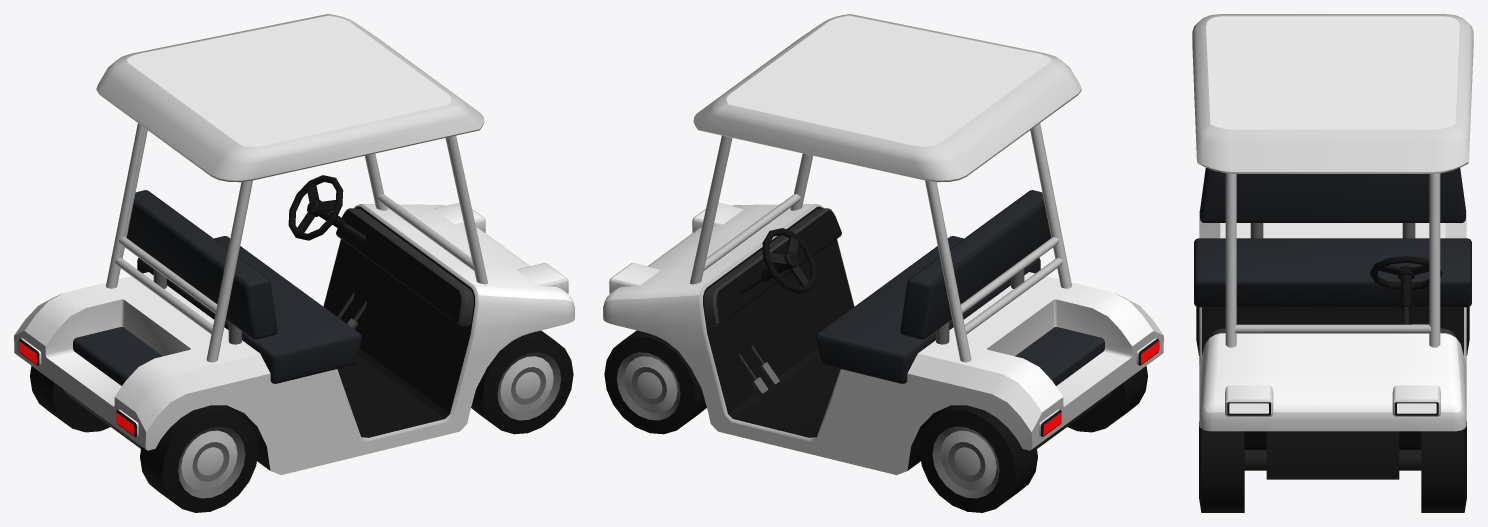
File: Bike_001.glb
3 views of the same model, side by side, from view 1: azimuth 30°, elevation 25°; view 2: azimuth 150°, elevation 25°; view 3: azimuth 270°, elevation 25° (orthographic).
Parts seen in each view (by area): view 1: Bike_001, wheel_3_Bike_001_Wheel_2R, wheel_1_Bike_001_Wheel_1R, wheel_2_Bike_001_Wheel_2L; view 2: Bike_001, wheel_2_Bike_001_Wheel_2L, wheel_0_Bike_001_Wheel_1L, wheel_3_Bike_001_Wheel_2R; view 3: Bike_001, wheel_1_Bike_001_Wheel_1R, wheel_0_Bike_001_Wheel_1L.
Boxes of the visible parts, x1,y1,x2,y2 form: Bike_001: (14, 14, 574, 475); wheel_3_Bike_001_Wheel_2R: (140, 405, 258, 512); wheel_1_Bike_001_Wheel_1R: (471, 330, 573, 434); wheel_2_Bike_001_Wheel_2L: (30, 366, 110, 432); Bike_001: (603, 14, 1163, 474); wheel_2_Bike_001_Wheel_2L: (919, 405, 1037, 512); wheel_0_Bike_001_Wheel_1L: (604, 330, 706, 434); wheel_3_Bike_001_Wheel_2R: (1067, 366, 1147, 432); Bike_001: (1192, 14, 1473, 479); wheel_1_Bike_001_Wheel_1R: (1199, 421, 1244, 512); wheel_0_Bike_001_Wheel_1L: (1421, 421, 1466, 512).
Bounding box in the file's own units: 2.46 × 1.87 × 1.35.
Materials: 2 (2 with a texture image).
